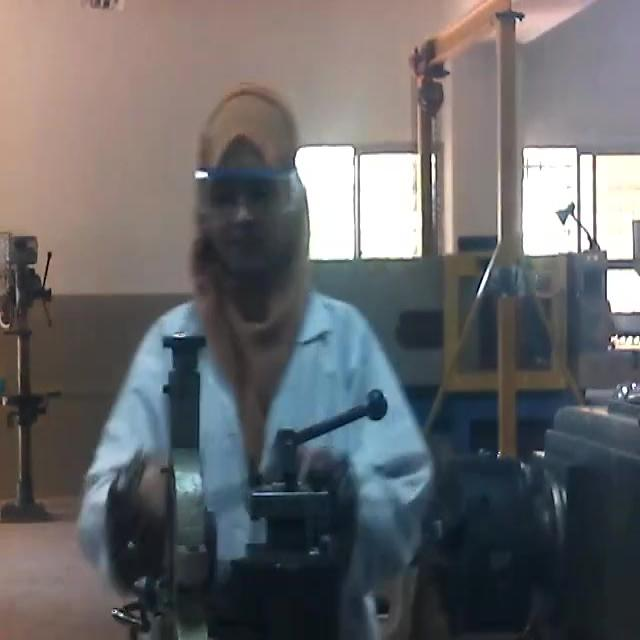googles: (188, 156, 312, 236)
labcoat: (75, 290, 439, 635)
